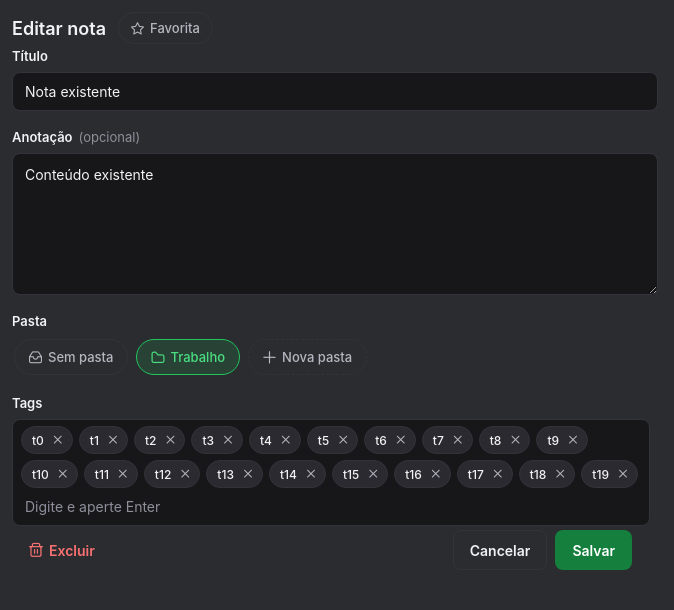
NoteFormModal › does not accept more than 20 tags and says why
Type "extra" into the field with id "note-tags" at (331, 506), box [21,494,641,519]
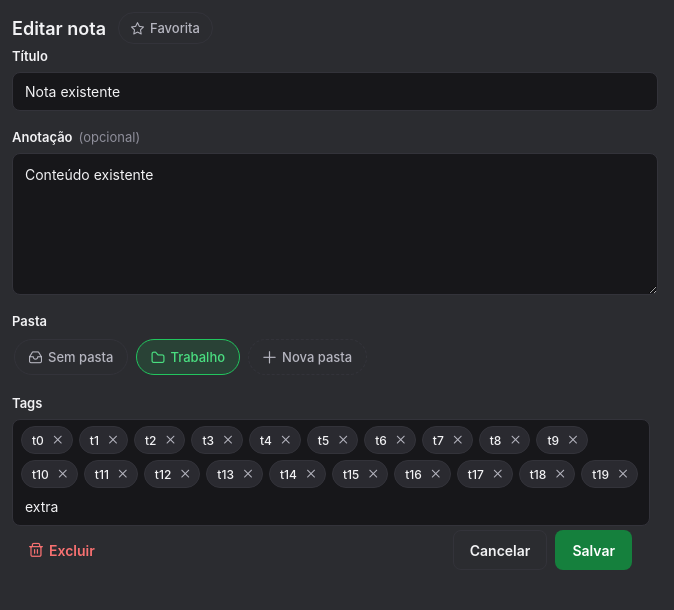
Press Enter in the field with id "note-tags", box [21,494,641,519]
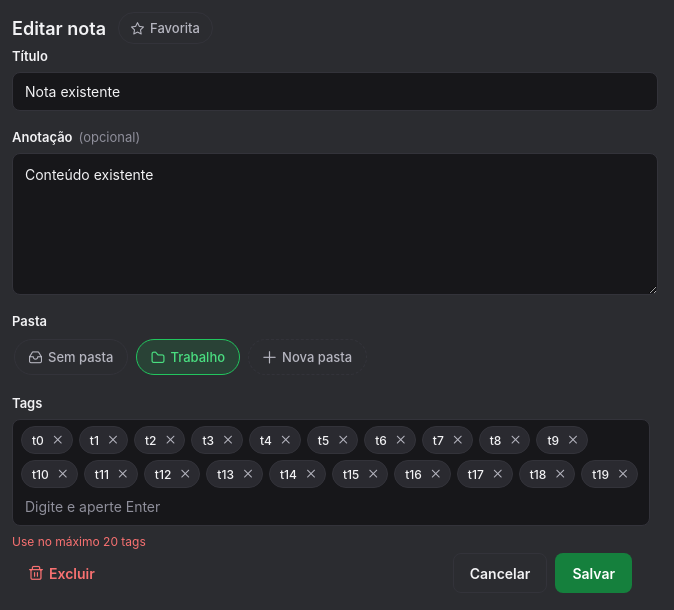
Expected: the message with id "note-tags-error" shows "no máximo 20 tags", [12,534,146,549]
